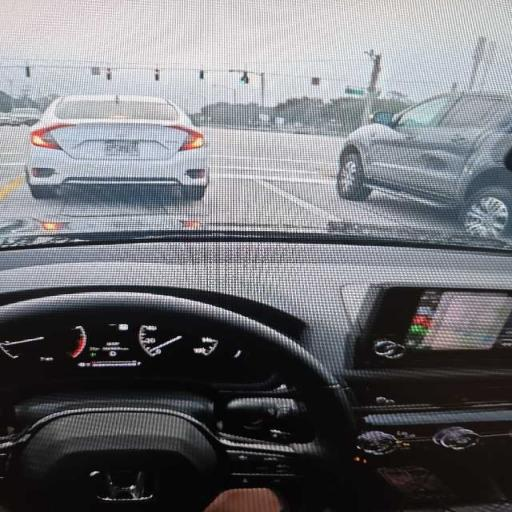car: (337, 94, 511, 236), (26, 95, 208, 199), (11, 108, 40, 126), (0, 113, 18, 126)
lane: (0, 127, 452, 226), (269, 182, 457, 228)
